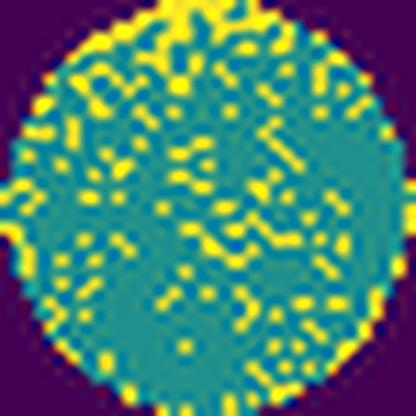Edge-Loc: (62, 0, 297, 98)
